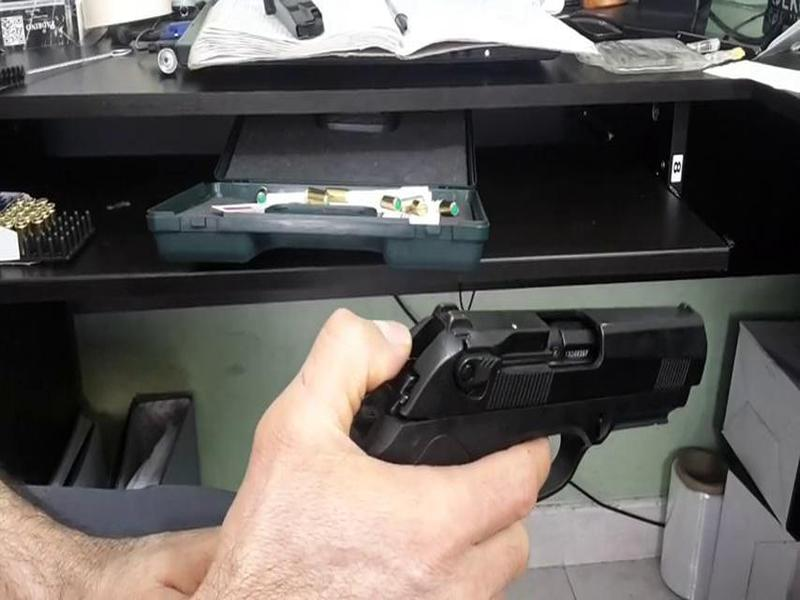Pistola: (334, 294, 721, 501)
